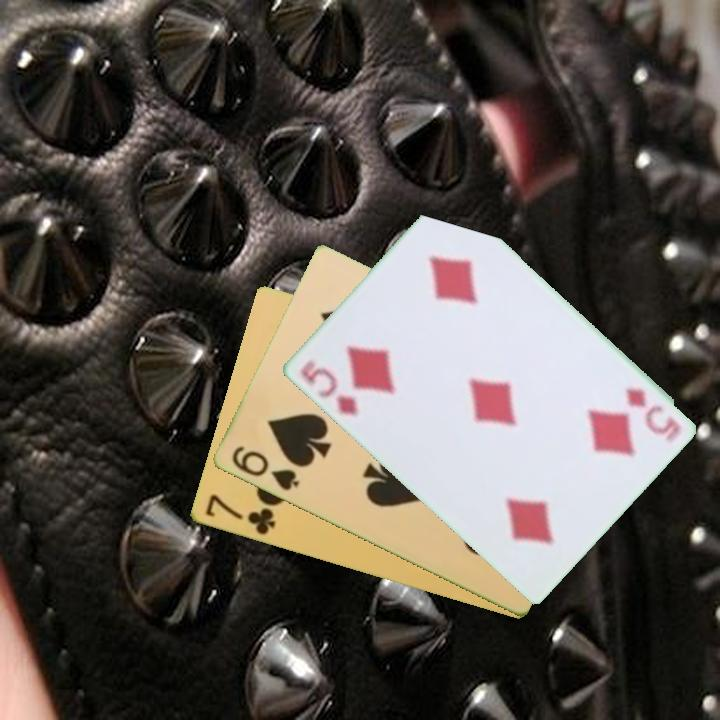5d: (295, 355, 360, 419), (621, 384, 683, 446)
6s: (227, 442, 302, 494)
7c: (201, 491, 278, 538)
